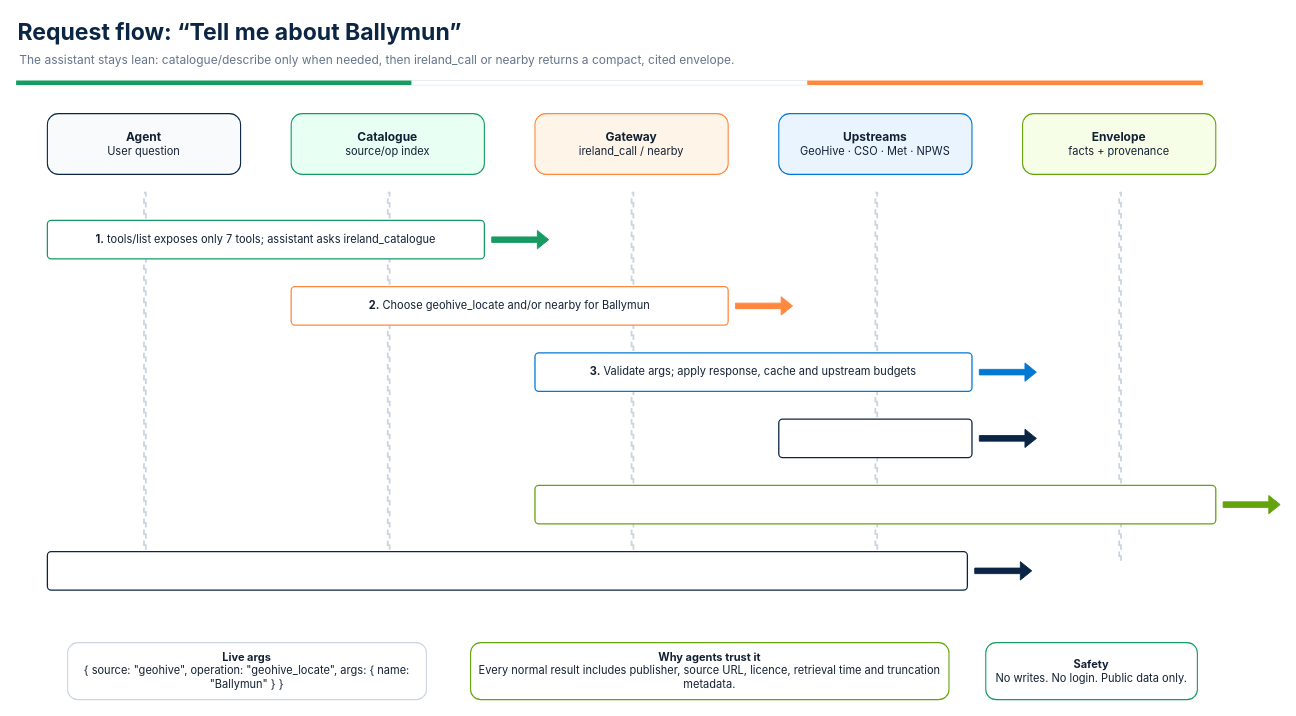
This 1296x716 diagram has some shape labels left out. Here are the shapes that lost their labels. From the top down, the box of each, then its label:
(778, 418, 972, 458): 4. Fetch public data from GeoHive/CSO/Met/NPWS with circuit breakers
(534, 484, 1216, 524): 5. Return compact JSON envelope: data + source URL + licence + retrieved_at
(46, 550, 968, 590): 6. Agent writes a cited plain-English answer
